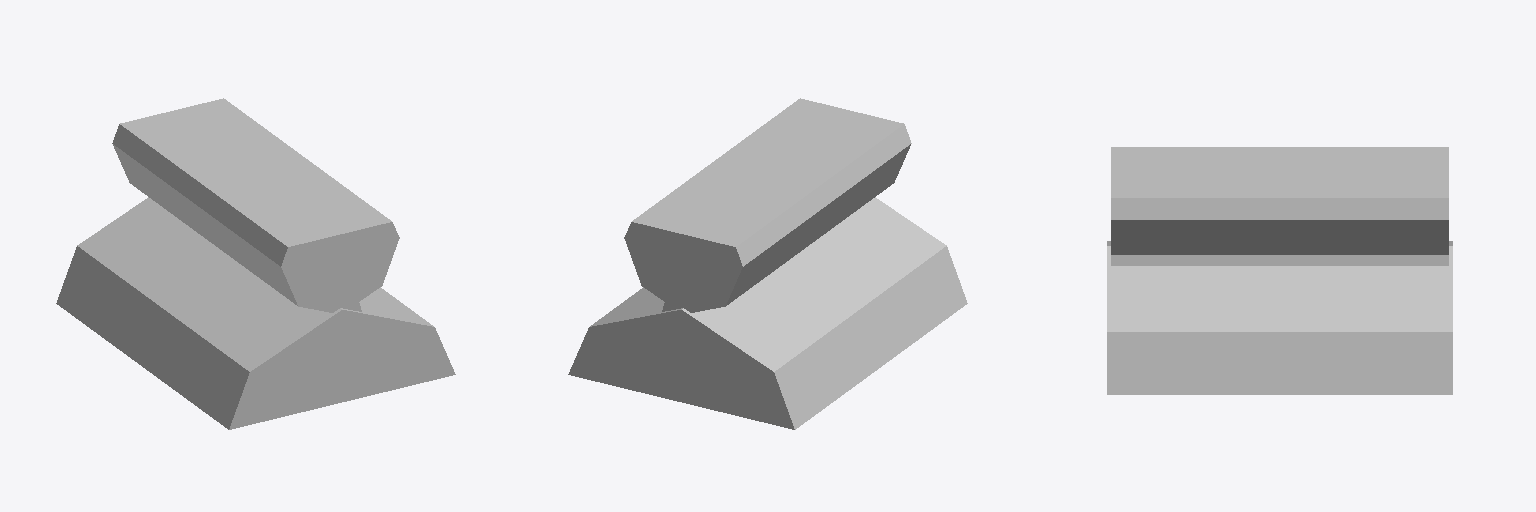
The model's file is Slide.obj.
The picture shows the model from 3 angles: view 1: azimuth 30°, elevation 25°; view 2: azimuth 150°, elevation 25°; view 3: azimuth 270°, elevation 25°; orthographic projection.
Visible parts, largest first — view 1: Cylinder.011; view 2: Cylinder.011; view 3: Cylinder.011.
Boxes of the visible parts, box(x1,y1,x2,y2) form: Cylinder.011: box(56, 98, 455, 429); Cylinder.011: box(568, 98, 967, 429); Cylinder.011: box(1107, 147, 1452, 394).
Bounding box in the file's own units: 0.2318 × 0.1625 × 0.3059.